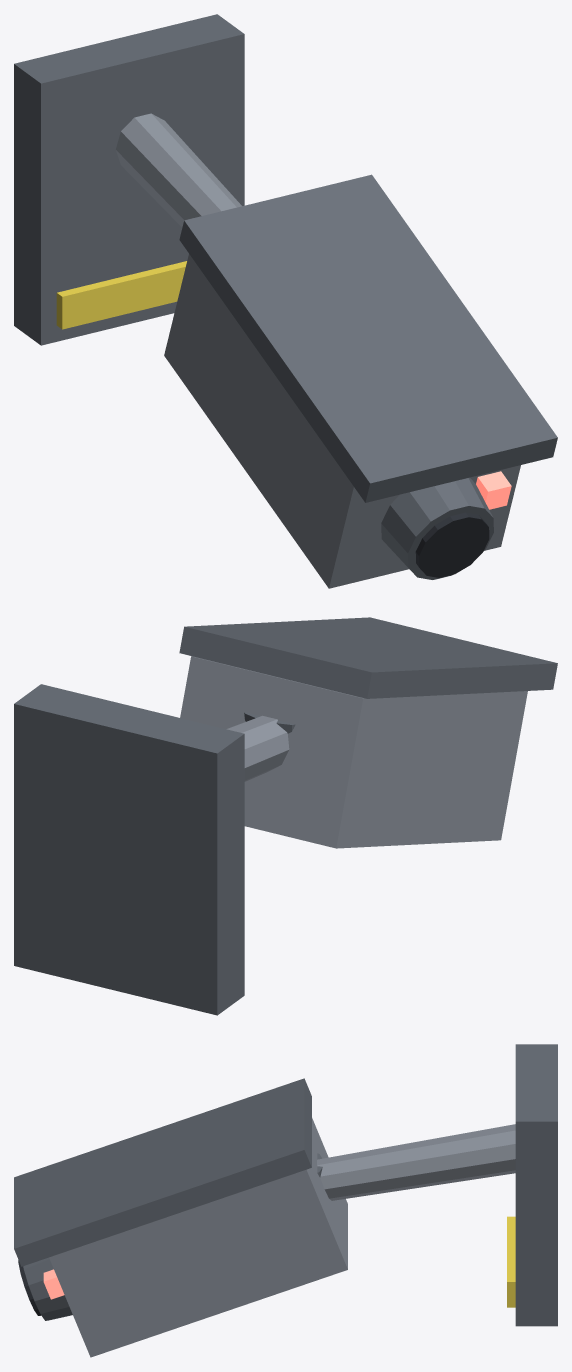
Rendered from wall_security_camera.glb.
3 views of the same model, one above another, from view 1: azimuth 30°, elevation 25°; view 2: azimuth 150°, elevation 25°; view 3: azimuth 270°, elevation 25° (orthographic). The views are drawn at different scales.
Parts seen in each view (by area): view 1: WallSecurityCamera; view 2: WallSecurityCamera; view 3: WallSecurityCamera.
Boxes of the visible parts, <box> form: WallSecurityCamera: <box>14,14,557,588</box>; WallSecurityCamera: <box>14,617,557,1015</box>; WallSecurityCamera: <box>14,1044,557,1357</box>.
Bounding box in the file's own units: 0.52 × 0.7565 × 1.54.
